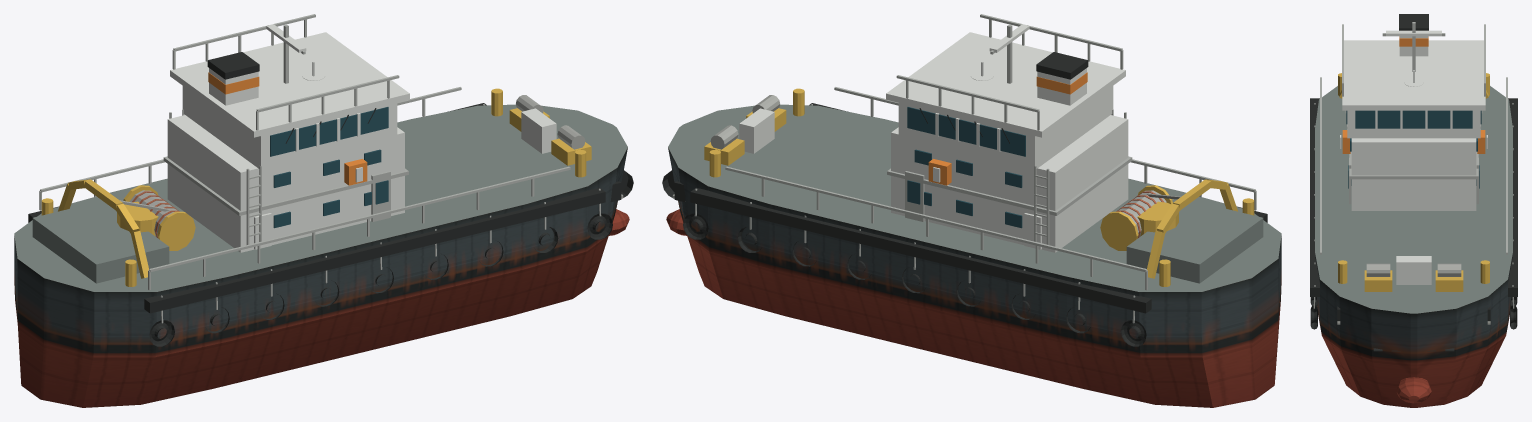
File: harbour-tug.glb
3 renders of one model, left to right at view 1: azimuth 30°, elevation 25°; view 2: azimuth 150°, elevation 25°; view 3: azimuth 270°, elevation 25°, orthographic. The views are drawn at different scales.
Visible parts, largest first — view 1: white, deck, red hull, upper hull, boot top, rubber, rail, yellow, dark window, pipe, orange; view 2: white, deck, red hull, upper hull, boot top, rubber, rail, yellow, dark window, pipe, orange; view 3: white, deck, upper hull, red hull, rubber, boot top, dark window, rail, yellow, pipe, orange.
Boxes of the visible parts, x1=… form: white: x1=167, y1=24, x2=556, y2=252; deck: x1=14, y1=104, x2=627, y2=291; red hull: x1=17, y1=209, x2=629, y2=407; upper hull: x1=14, y1=148, x2=627, y2=336; boot top: x1=14, y1=200, x2=617, y2=357; rubber: x1=28, y1=52, x2=633, y2=346; rail: x1=39, y1=14, x2=601, y2=323; yellow: x1=41, y1=88, x2=591, y2=286; dark window: x1=270, y1=107, x2=388, y2=228; pipe: x1=120, y1=95, x2=623, y2=236; orange: x1=208, y1=72, x2=367, y2=185; white: x1=739, y1=24, x2=1128, y2=252; deck: x1=668, y1=104, x2=1281, y2=291; red hull: x1=666, y1=209, x2=1280, y2=407; upper hull: x1=668, y1=148, x2=1281, y2=336; boot top: x1=678, y1=200, x2=1281, y2=357; rubber: x1=662, y1=52, x2=1267, y2=346; rail: x1=694, y1=14, x2=1256, y2=323; yellow: x1=704, y1=88, x2=1254, y2=286; dark window: x1=907, y1=107, x2=1025, y2=228; pipe: x1=672, y1=95, x2=1180, y2=236; orange: x1=928, y1=72, x2=1087, y2=185; white: x1=1340, y1=30, x2=1487, y2=284; deck: x1=1315, y1=86, x2=1512, y2=313; upper hull: x1=1315, y1=253, x2=1512, y2=347; red hull: x1=1322, y1=336, x2=1505, y2=407; rubber: x1=1310, y1=14, x2=1517, y2=351; boot top: x1=1316, y1=300, x2=1511, y2=363; dark window: x1=1346, y1=110, x2=1481, y2=188; rail: x1=1313, y1=22, x2=1514, y2=308; yellow: x1=1338, y1=73, x2=1489, y2=291; pipe: x1=1337, y1=263, x2=1490, y2=324; orange: x1=1342, y1=36, x2=1485, y2=153.
Bounding box in the file's own units: 32.64 × 15.95 × 11.55.
Materials: 12 (3 with a texture image).
